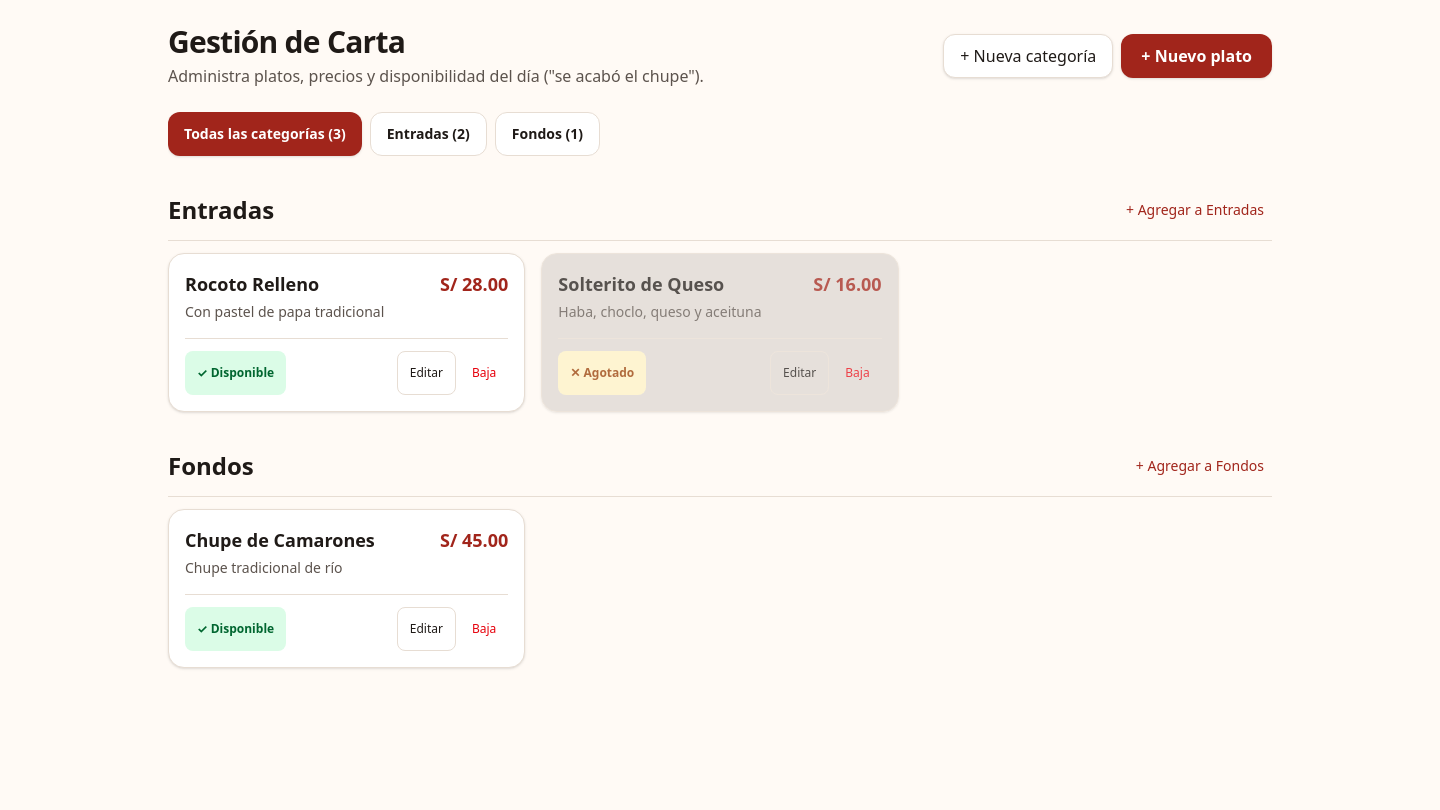
Test: MenuPage (Módulo Carta) › abre el modal de nuevo plato al pulsar "+ Nuevo plato"
Expected: the heading "Gestión de Carta" is shown, [168,21,405,62]
Click the button "+ Nuevo plato" at (1197, 56), box [1121,34,1272,78]
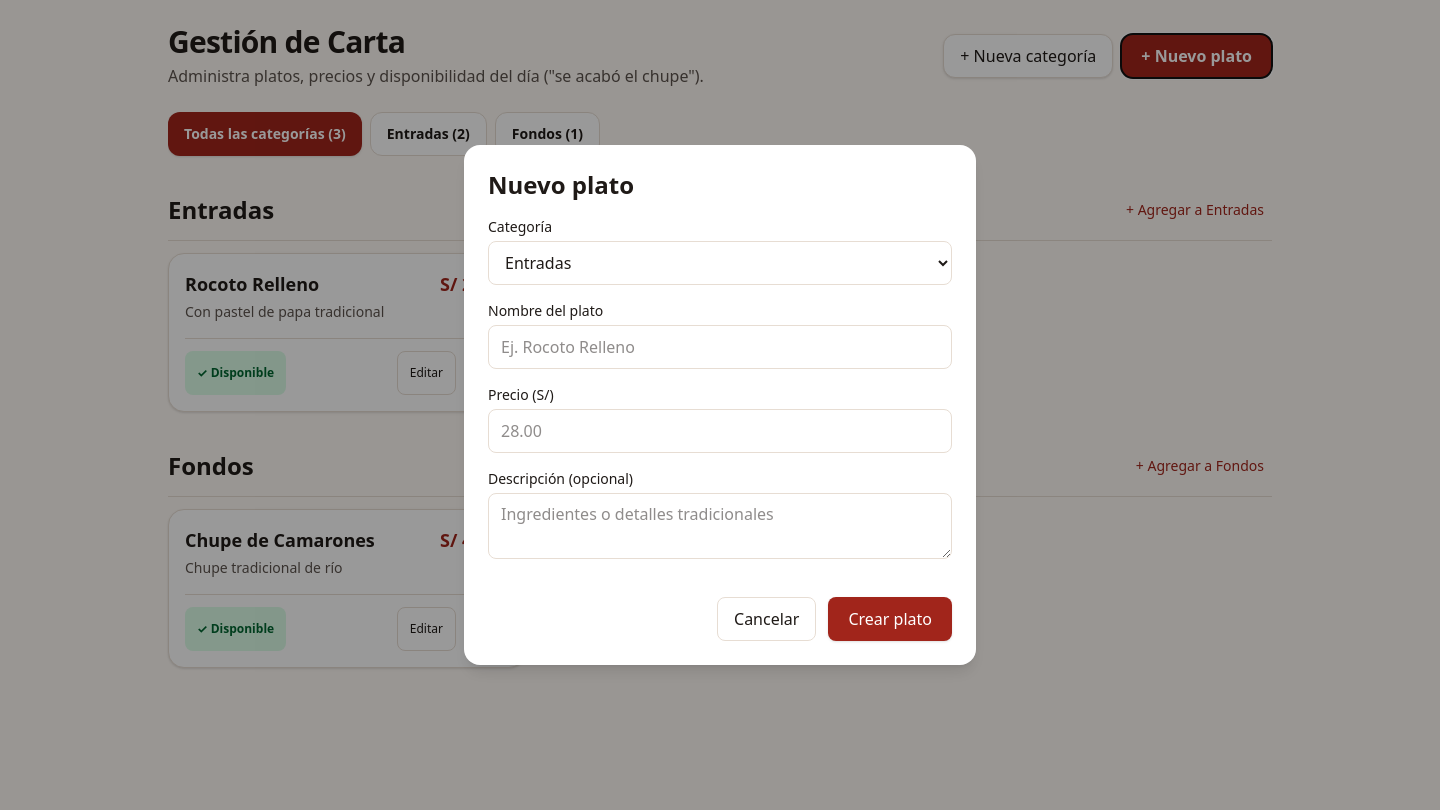
Expected: the dialog "Nuevo plato" is shown, [464,145,976,665]
Expected: the field labelled "Nombre del plato" is shown, [488,325,952,369]
Expected: the number field labelled "Precio (S/)" is shown, [488,409,952,453]
